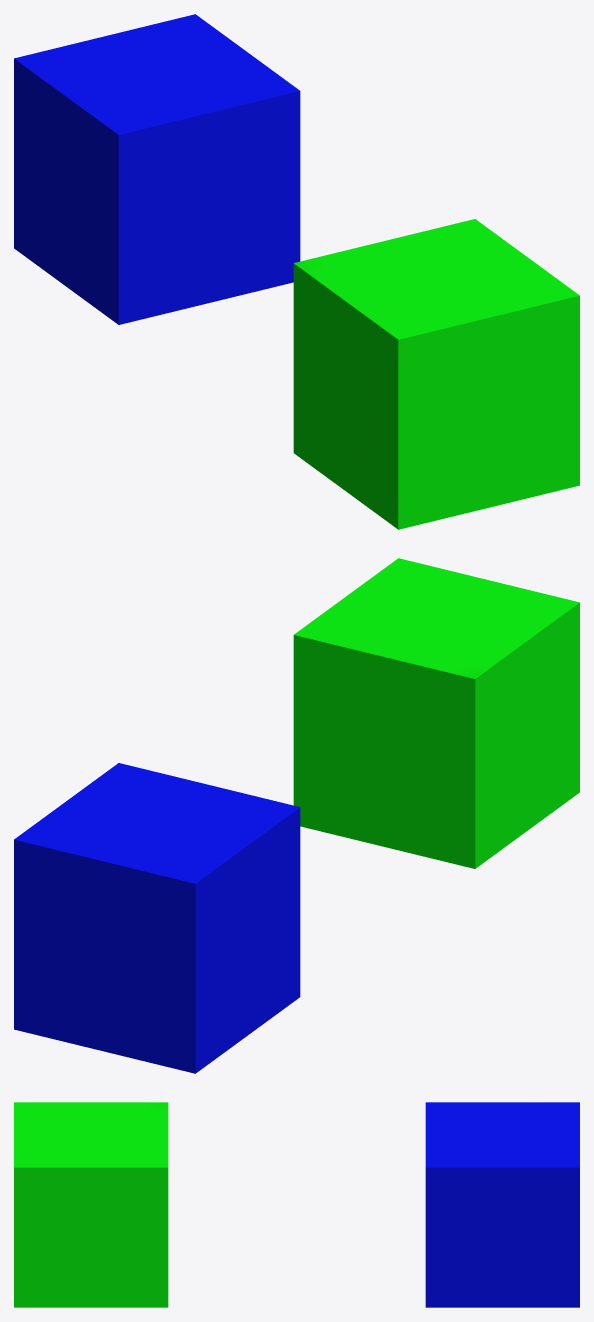
Rendered from MultiMeshAnime.gltf.
3 views of the same model, one above another, from view 1: azimuth 30°, elevation 25°; view 2: azimuth 150°, elevation 25°; view 3: azimuth 270°, elevation 25° (orthographic). The views are drawn at different scales.
Visible parts, largest first — view 1: Cube, 立方体; view 2: 立方体, Cube; view 3: 立方体, Cube.
Boxes of the visible parts, x1,y1,x2,y2 form: Cube: (293, 219, 579, 529); 立方体: (14, 14, 300, 324); 立方体: (14, 763, 300, 1073); Cube: (293, 558, 579, 868); 立方体: (425, 1102, 579, 1307); Cube: (14, 1102, 168, 1307).
Bounding box in the file's own units: 2 × 2 × 7.34.
2 materials, 2 textured.
